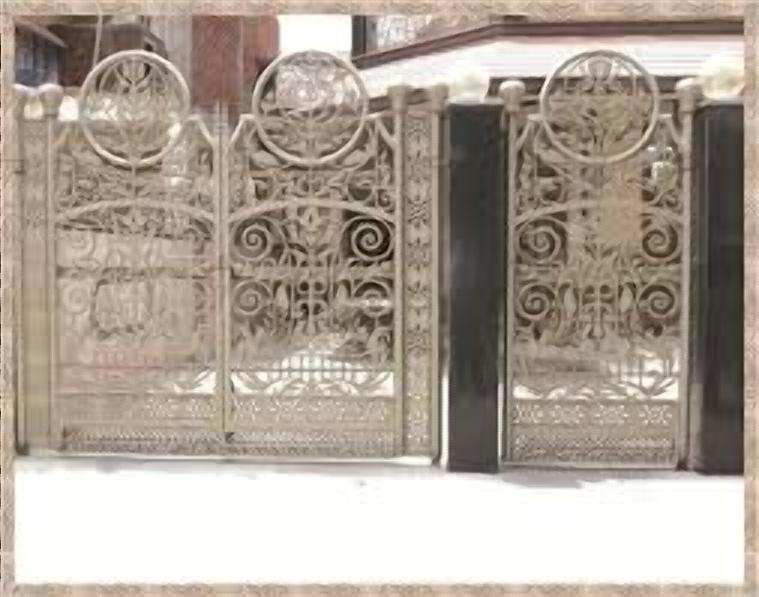Gate: (0, 48, 443, 462), (499, 49, 699, 471)
